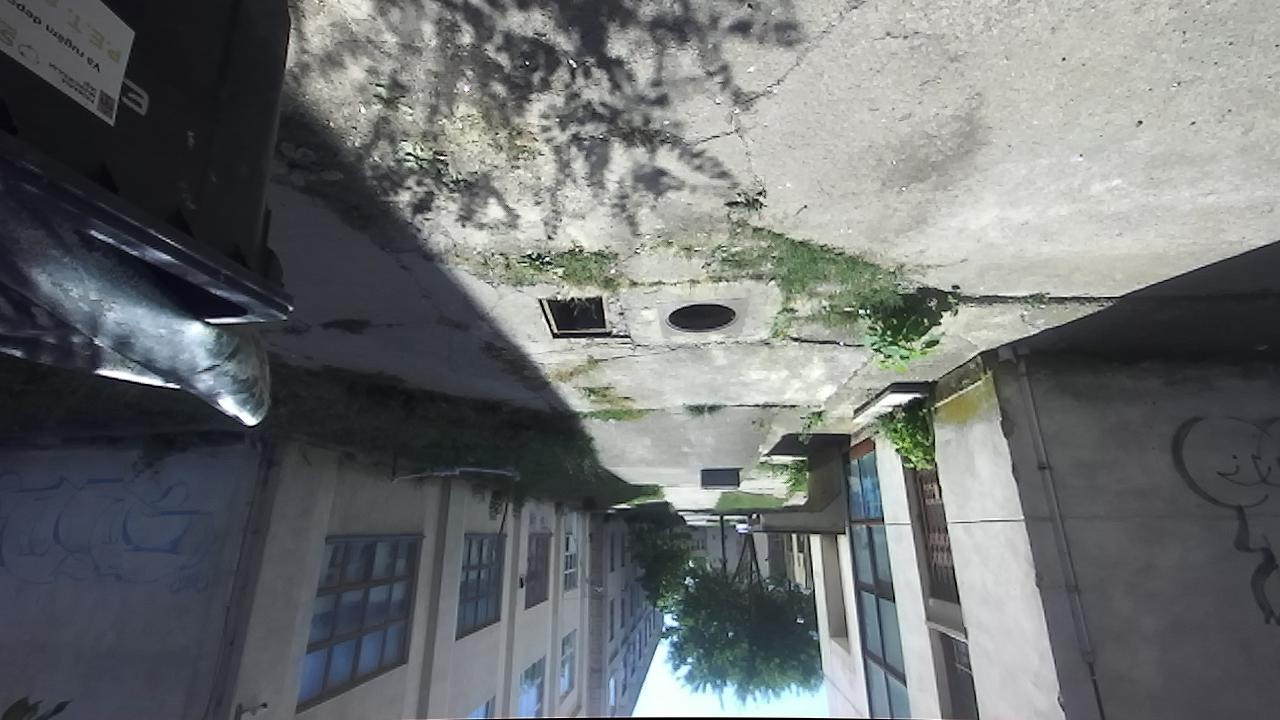drain: (534, 293, 611, 341), (658, 302, 739, 335)
